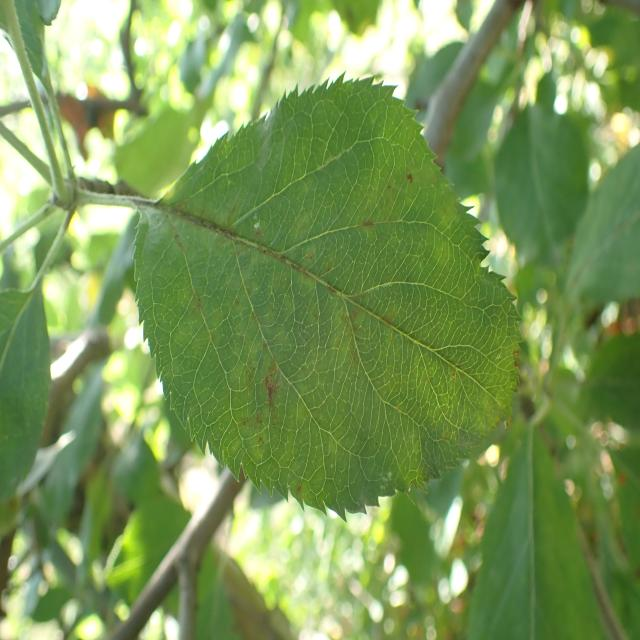scab: (132, 126, 515, 475)
